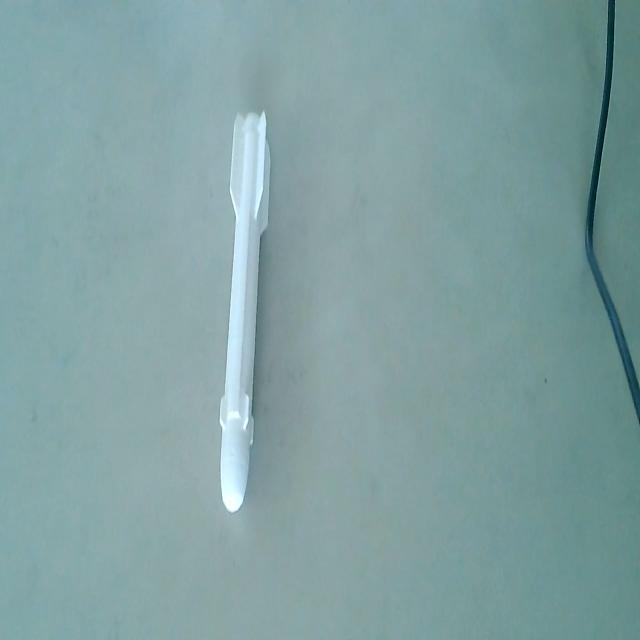Rocket: (218, 109, 276, 520)
